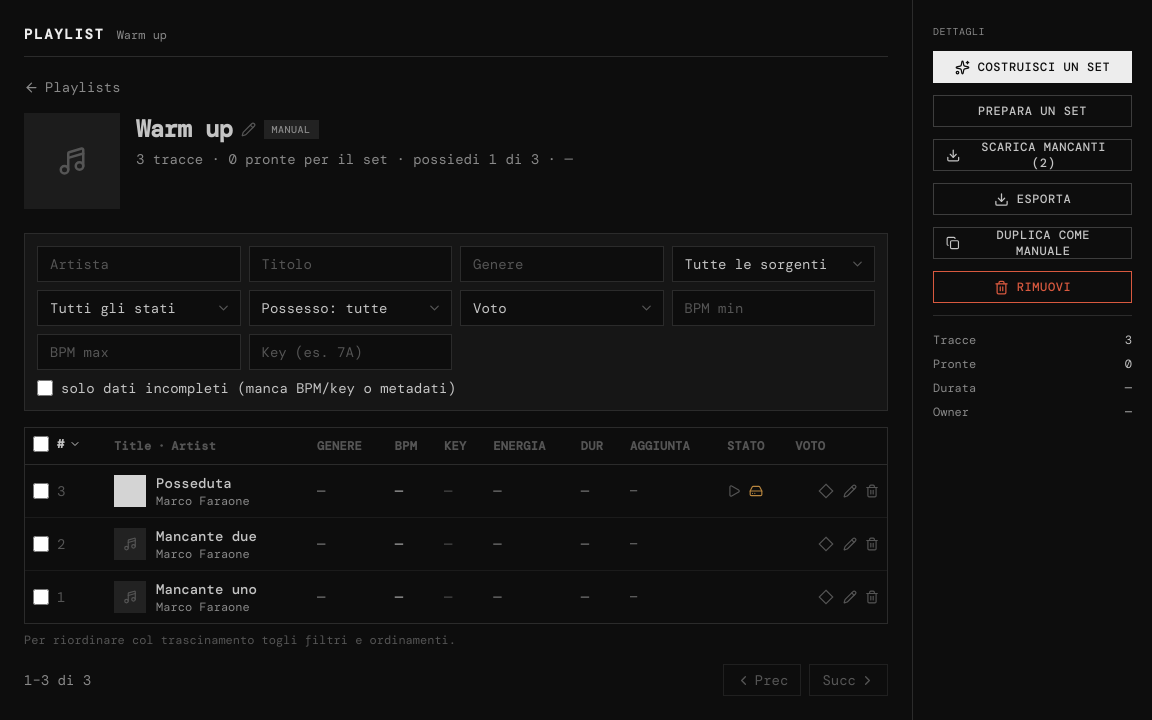
Test: «Scarica» nella barra di selezione del dettaglio playlist › con sole possedute selezionate il pulsante è spento
Click the checkbox named "Seleziona traccia" in the row of "Posseduta". click: (41, 491)
box: [33,483,49,499]
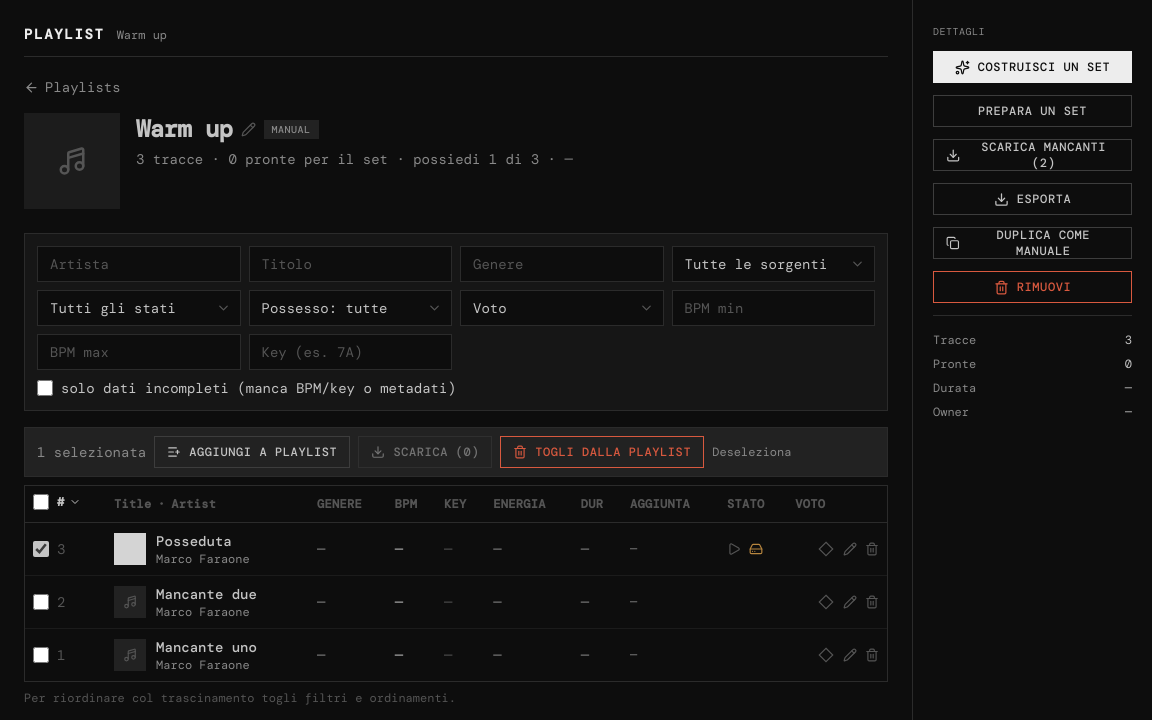
expect the button "Scarica (0)" is disabled: met, box [358,436,492,468]
